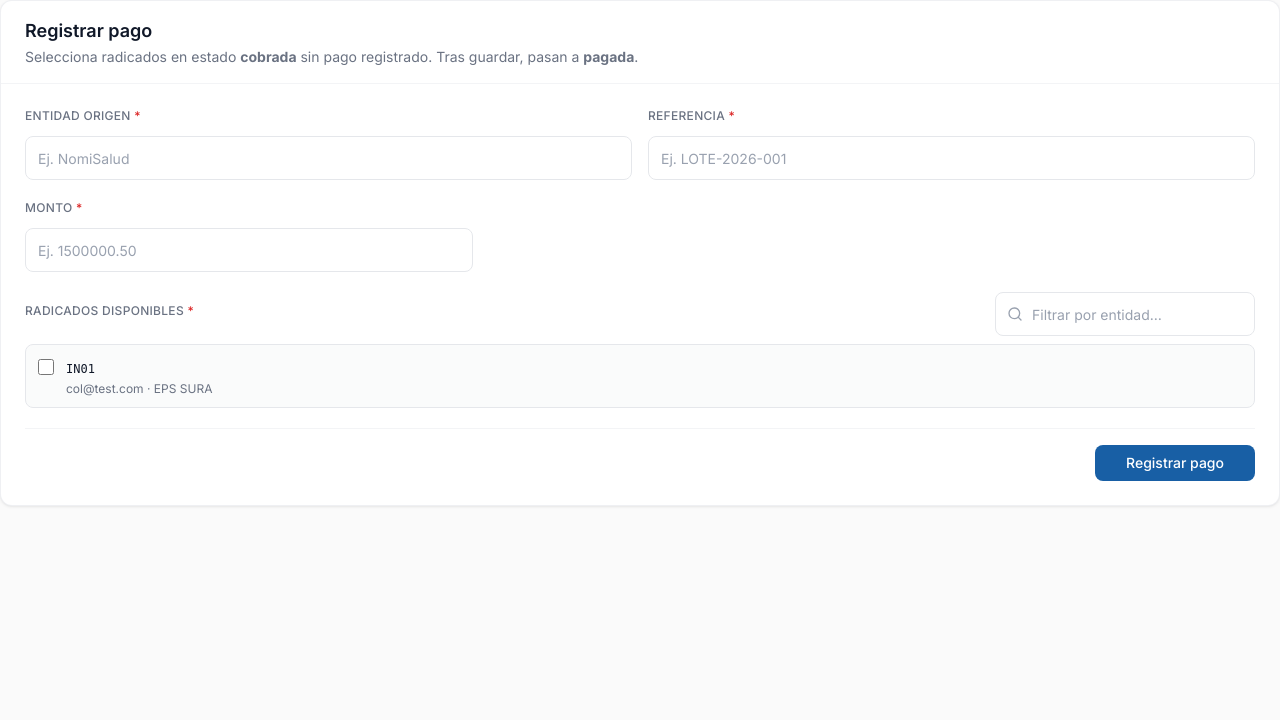
Scenario: RegistrarPagoForm › valida campos obligatorios
The image size is (1280, 720).
Expected: the text "IN01" is shown, [66,362,95,376]
Step 1. Click the button "Registrar pago" → [1175, 463], box [1095,445,1255,481]
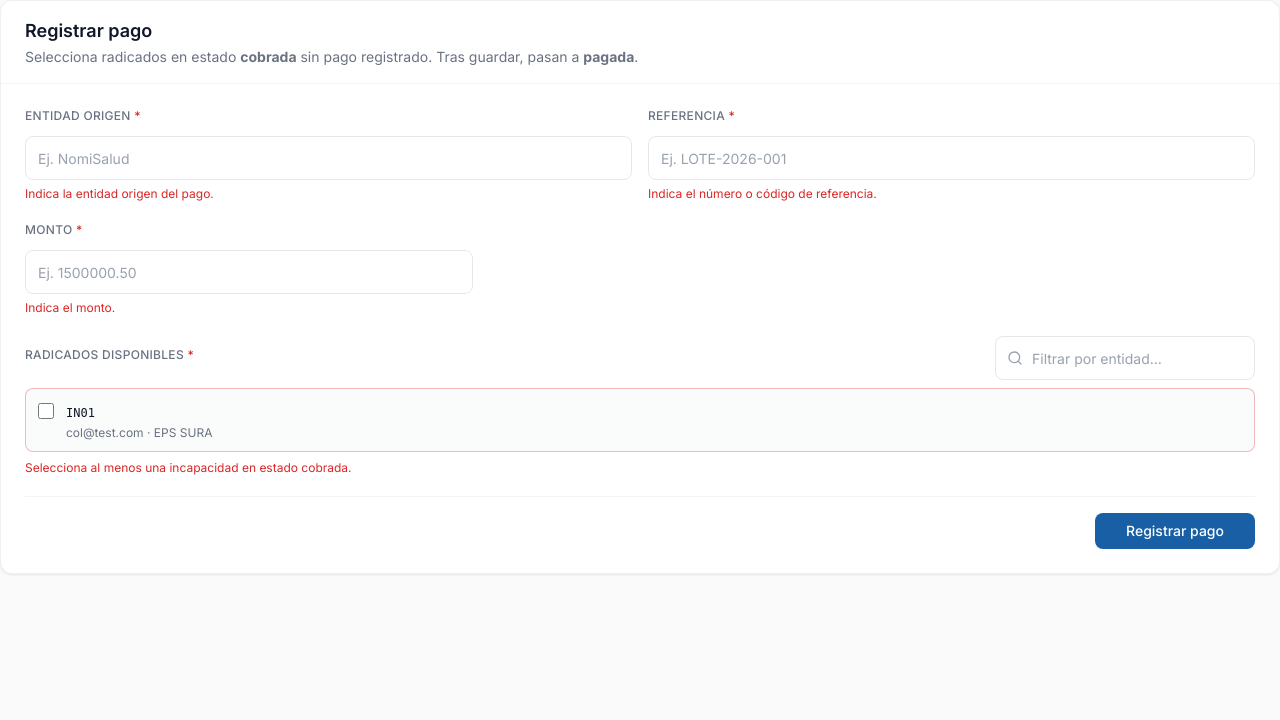
Now the text "Indica la entidad origen del pago." is shown, box [25,186,214,201]
